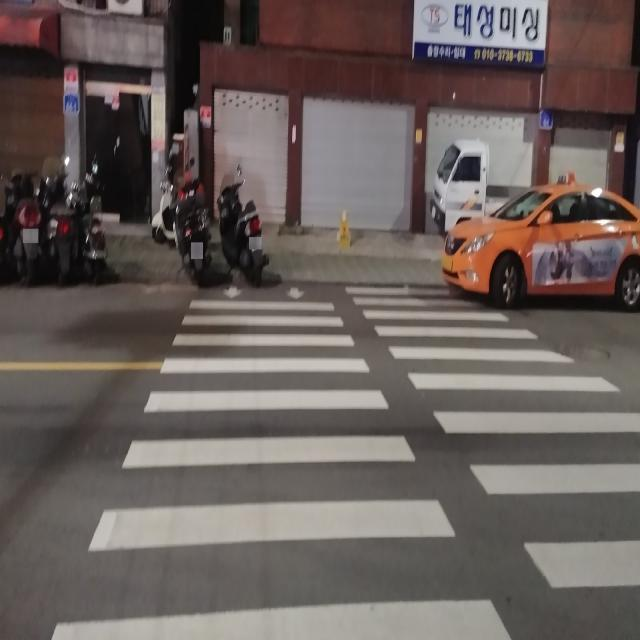횡단보도: (46, 279, 640, 640)
